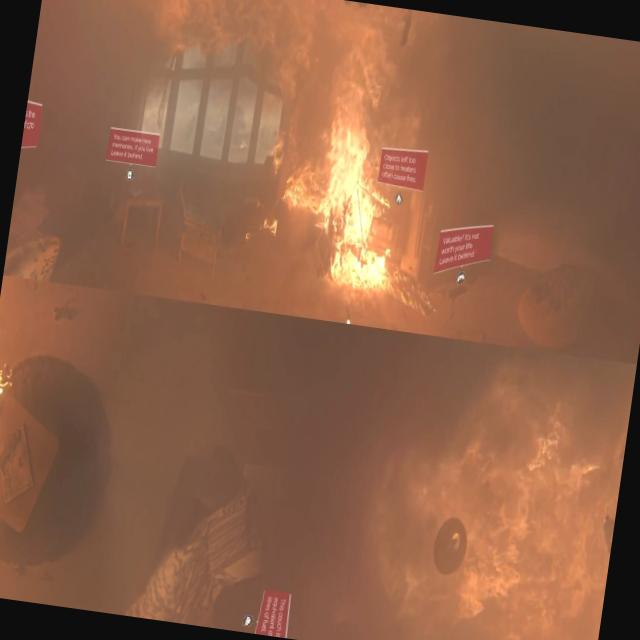fire: (253, 4, 427, 288)
